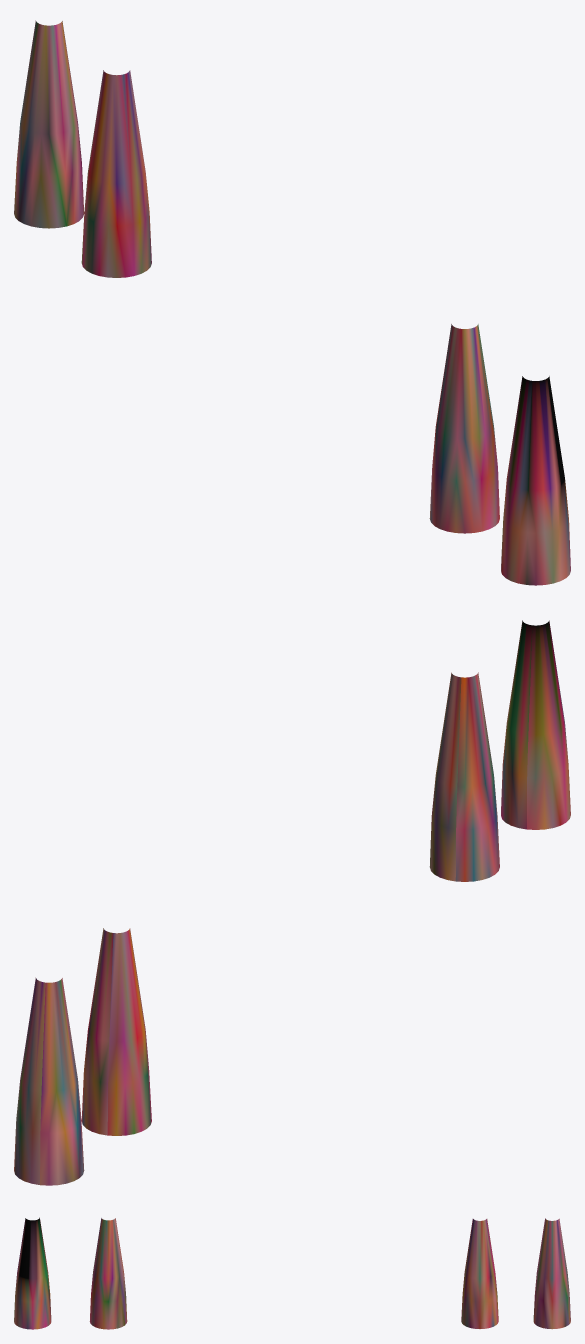
File: AmbientBoost_Van_SM.gltf
The picture shows the model from 3 angles, top to bottom: view 1: azimuth 30°, elevation 25°; view 2: azimuth 150°, elevation 25°; view 3: azimuth 270°, elevation 25°; orthographic projection. The views are drawn at different scales.
Parts seen in each view (by area): view 1: AmbientBoost_Van_SM; view 2: AmbientBoost_Van_SM; view 3: AmbientBoost_Van_SM.
Part boxes in pixels (bbox=[...]): AmbientBoost_Van_SM: bbox=[14, 20, 570, 585]; AmbientBoost_Van_SM: bbox=[14, 620, 570, 1185]; AmbientBoost_Van_SM: bbox=[14, 1217, 570, 1329].
Bounding box in the file's own units: 0.025 × 0.0768 × 0.3719.
